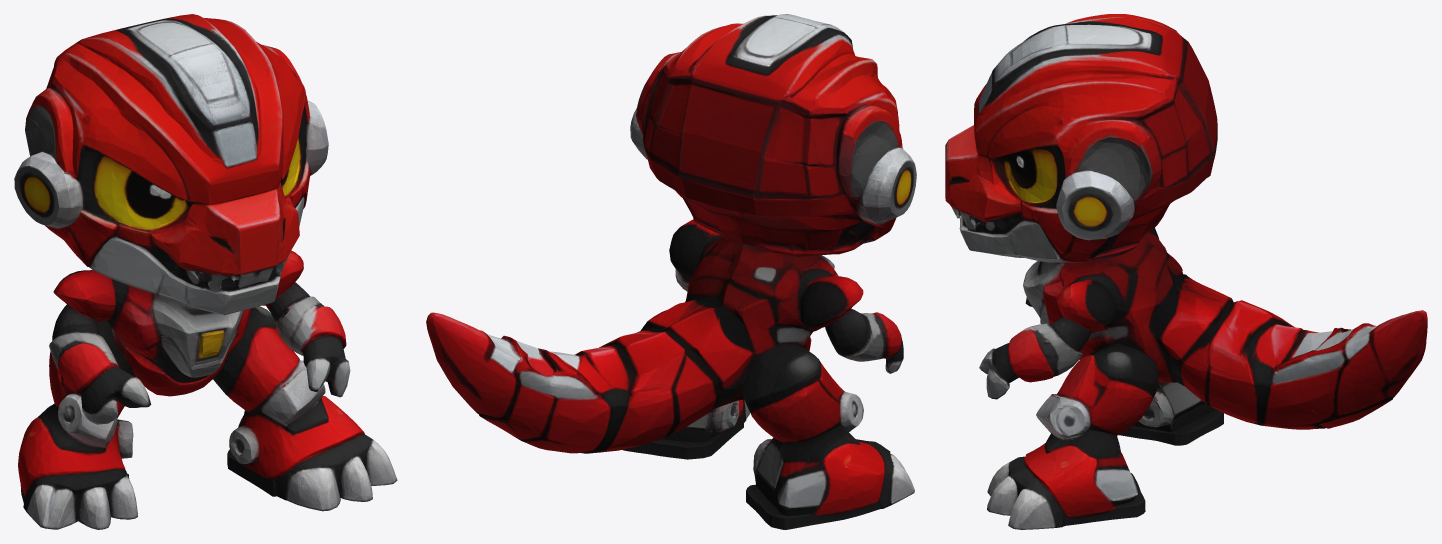
File: rex.glb
3 views of the same model, side by side, from view 1: azimuth 30°, elevation 25°; view 2: azimuth 150°, elevation 25°; view 3: azimuth 270°, elevation 25° (orthographic). The views are drawn at different scales.
Parts seen in each view (by area): view 1: world; view 2: world; view 3: world.
Boxes of the visible parts, x1=… form: world: x1=14, y1=14, x2=397, y2=529; world: x1=426, y1=14, x2=916, y2=529; world: x1=945, y1=14, x2=1427, y2=529.
Size of the model in its own units: 0.7304 by 0.9555 by 0.9997.
1 material, 1 textured.
